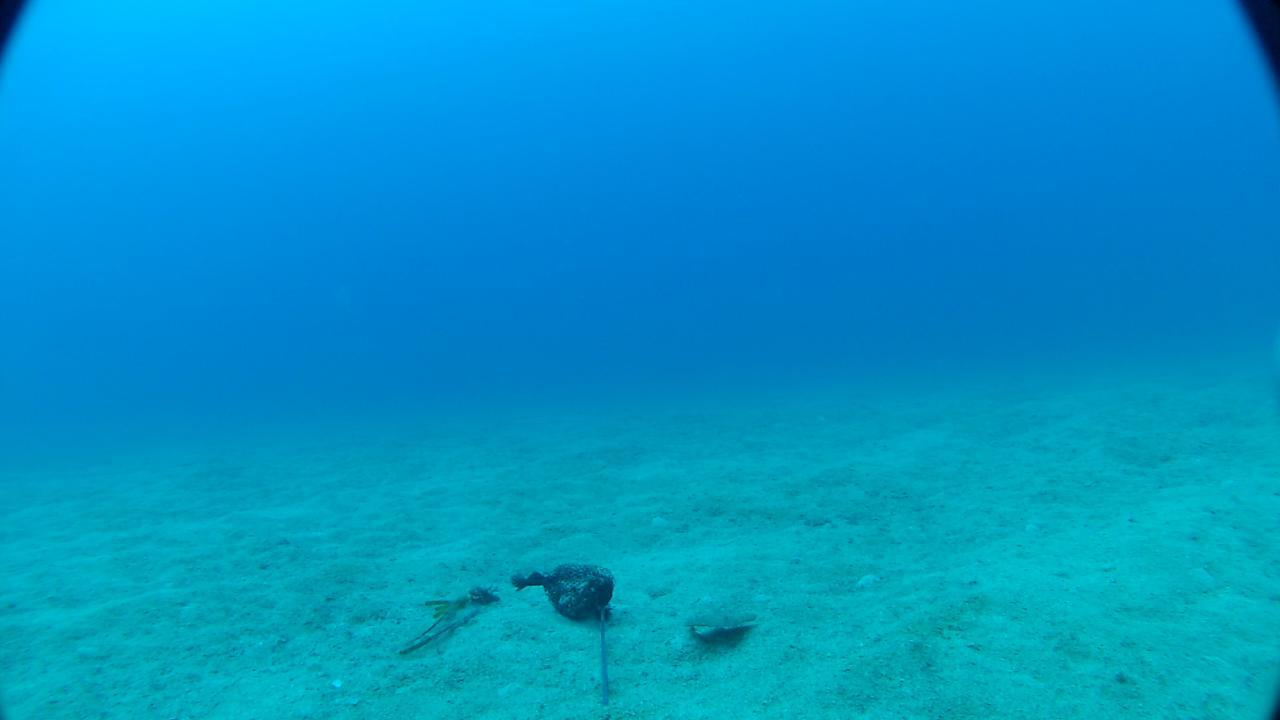bothus: (684, 602, 756, 630)
